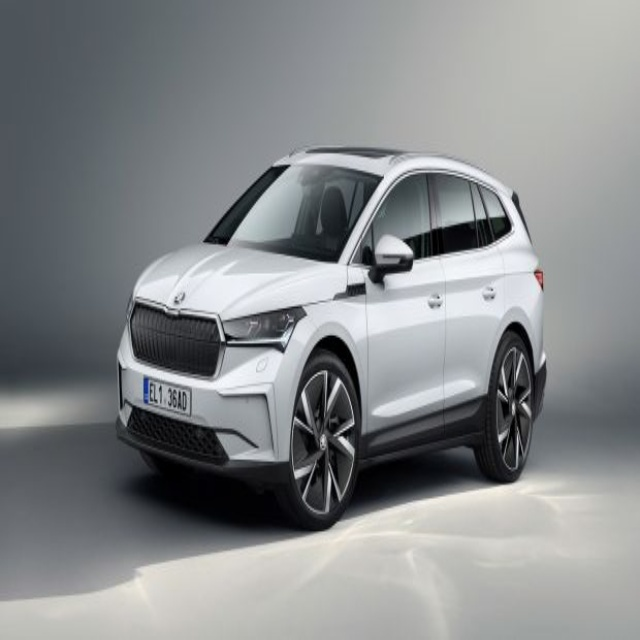Car: (116, 144, 546, 531)
